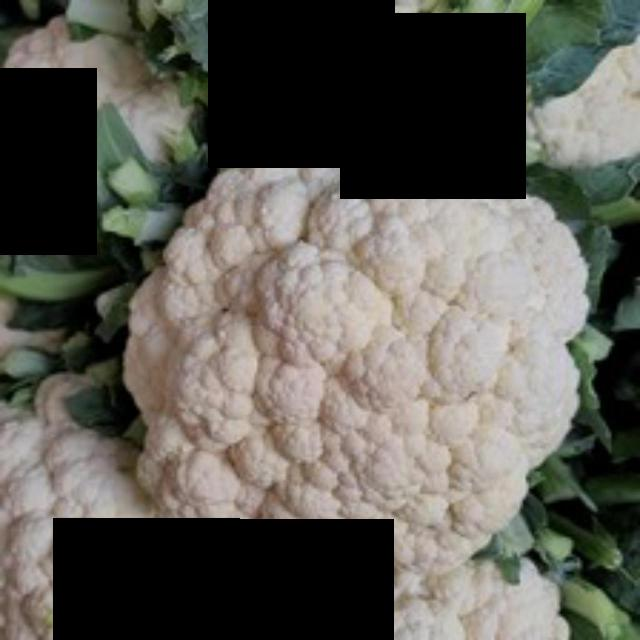cauliflower: (105, 138, 607, 578)
